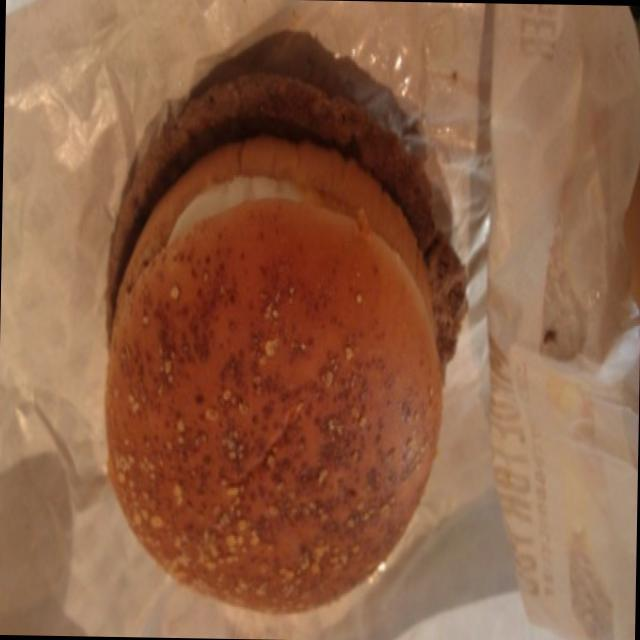Hamburger: (88, 52, 464, 624)
